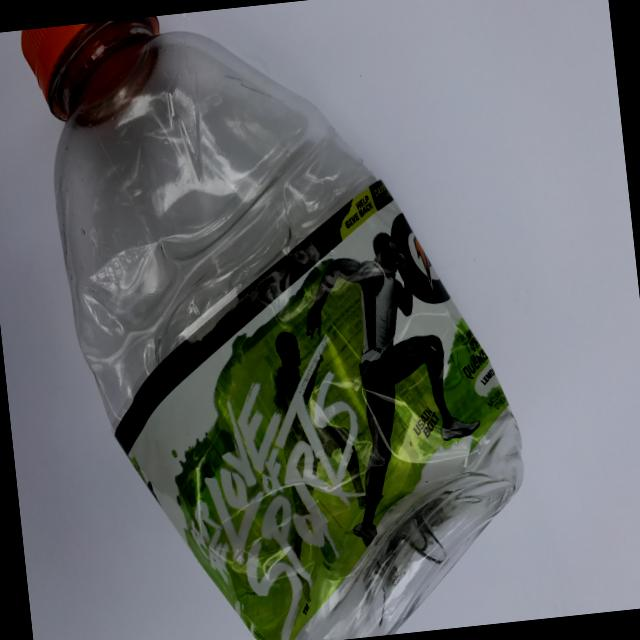Plastic: (9, 0, 563, 640)
